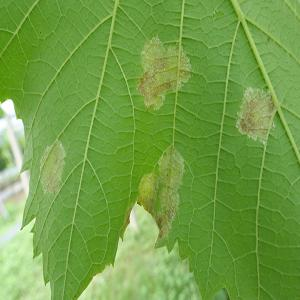Folha: (0, 0, 299, 299)
Fungo: (136, 144, 186, 248), (136, 34, 192, 111), (235, 86, 275, 146), (38, 139, 66, 195), (136, 171, 158, 215)
